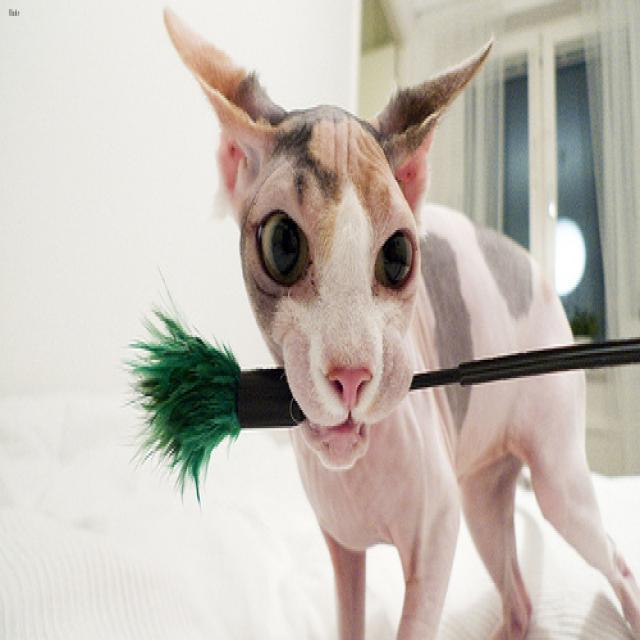Sphynx: (162, 4, 492, 467)
